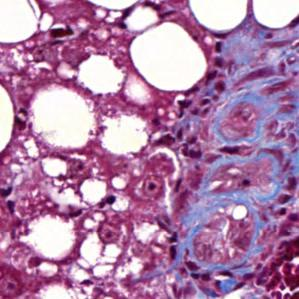steatosis: (124, 24, 211, 92)
